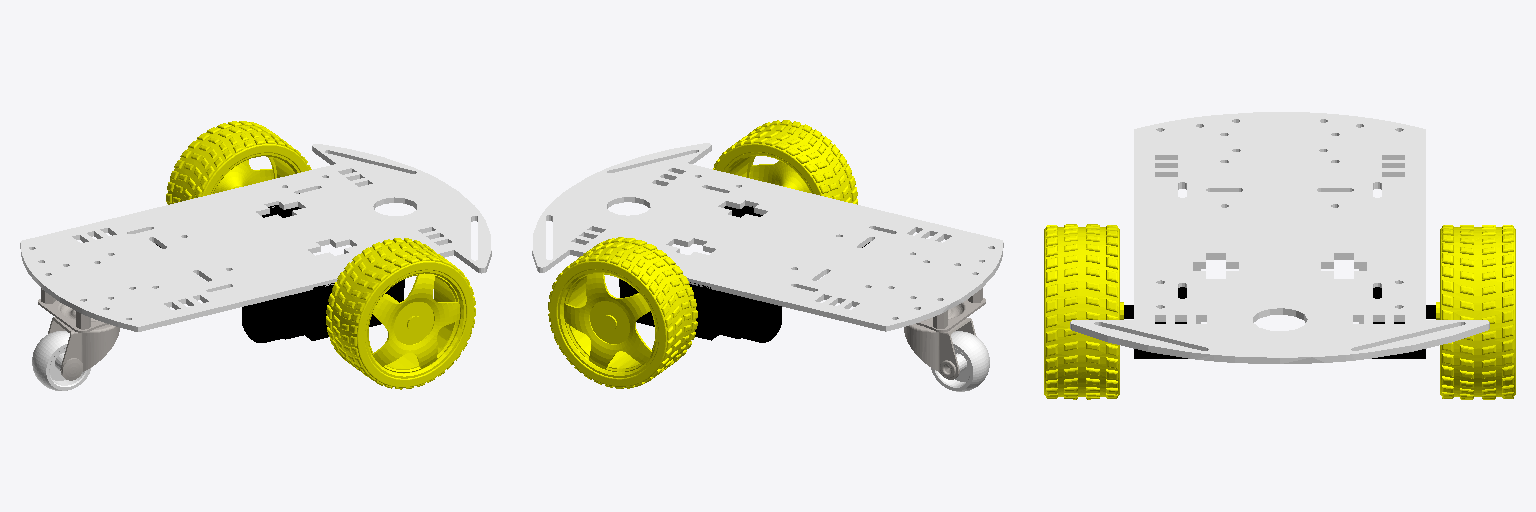
robot.urdf — ros_diff_bot_up:
<?xml version="1.0" encoding="utf-8"?>
<!-- This URDF was automatically created by SolidWorks to URDF Exporter! Originally created by [author] ([email redacted]) 
     Commit Version: 1.6.0-4-g7f85cfe  Build Version: 1.6.7995.38578
     For more information, please see http://wiki.ros.org/sw_urdf_exporter -->
<robot
  name="ros_diff_bot_up">
  <!--<link
    name="odom">
  </link>
  <joint name="dummy_joint" type="fixed">
     <parent link="odom"/>
     <child link="base_footprint"/>
     <origin rpy="0 0 0" xyz="0.0 0.1 -0.042"/>
   </joint> 
  <link
    name="base_footprint">
  </link> 
  <gazebo reference="base_footprint">
    <turnGravityOff>false</turnGravityOff>
  </gazebo>
  <joint name="base_joint" type="fixed">
     <parent link="base_footprint"/>
     <child link="base_link"/>
     <origin rpy="0 0 0" xyz="0.01 0.0 0.042"/>    
     <axis xyz="0 0 1" />
   
  </joint> -->

  <link
    name="base_link">
    <inertial>
      <origin
        xyz="0.0036937316889238 -2.77555756156289E-17 -0.00180916346572228"
        rpy="0 0 0" />
      <mass
        value="0.0558864014844809" />
      <inertia
        ixx="4.88482309612356E-05"
        ixy="7.26100458535936E-22"
        ixz="1.41265658502226E-07"
        iyy="0.00016793802401372"
        iyz="-5.413973657873E-21"
        izz="0.000215540611718324" />
    </inertial>
    <visual>
      <origin
        xyz="0 0 0"
        rpy="0 0 0" />
      <geometry>
        <mesh
          filename="package://ros_diff_bot_up/meshes/base_link.STL" />
      </geometry>
      <material
        name="">
        <color
          rgba="1 1 1 0.3" />
      </material>
    </visual>
    <collision>
      <origin
        xyz="0 0 0"
        rpy="0 0 0" />
      <geometry>
        <mesh
          filename="package://ros_diff_bot_up/meshes/base_link.STL" />
      </geometry>
    </collision>
  </link>
  <gazebo reference="base_link">
    <material>Gazebo/White</material>
    <turnGravityOff>false</turnGravityOff>
  </gazebo>
  <link
    name="right_wheel_Link">
    <inertial>
      <origin
        xyz="0 0 0"
        rpy="0 0 0" />
      <mass
        value="0.0294364519050273" />
      <inertia
        ixx="1.14621536997523E-05"
        ixy="-6.93084858493936E-14"
        ixz="1.89251632684548E-14"
        iyy="1.96065925873771E-05"
        iyz="7.371933423442E-14"
        izz="1.1462153974395E-05" />
    </inertial>
    <visual>
      <origin
        xyz="0 0 0"
        rpy="0 0 0" />
      <geometry>
        <mesh
          filename="package://ros_diff_bot_up/meshes/right_wheel_Link.STL" />
      </geometry>
      <material
        name="">
        <color
          rgba="1 1 0 1" />
      </material>
    </visual>
    <collision>
      <origin
        xyz="0 0 0"
        rpy="0 0 0" />
      <geometry>
        <mesh
          filename="package://ros_diff_bot_up/meshes/right_wheel_Link.STL" />
      </geometry>
    </collision>
  </link>
  <gazebo reference="right_wheel_Link">
    <mu1 value="1.0"/>
    <mu2 value="1.0"/>
    <material>Gazebo/Yellow</material>
    <turnGravityOff>false</turnGravityOff>
  </gazebo>
  <joint
    name="right_wheel_joint"
    type="continuous">
    <origin
      xyz="0.0362142857142861 -0.068 -0.0141"
      rpy="0 0 0" />
    <parent
      link="base_link" />
    <child
      link="right_wheel_Link" />
    <axis
      xyz="0 1 0" />
    <limit
      lower="-3.14"
      upper="3.14"
      effort="10"
      velocity="10" />
  </joint>
   <!-- Transmission is important to link the joints and the controller -->
  <transmission name="right_wheel_joint_trans">
    <type>transmission_interface/SimpleTransmission</type>
    <joint name="right_wheel_joint"/>
    <actuator name="right_wheel_joint_motor">
      <hardwareInterface>EffortJointInterface</hardwareInterface>
      <mechanicalReduction>1</mechanicalReduction>
    </actuator>
  </transmission>
  <link
    name="right_motor_Link">
    <inertial>
      <origin
        xyz="-0.02035794305581 8.04231341817591E-05 -6.93889390390723E-18"
        rpy="0 0 0" />
      <mass
        value="0.0323790347078976" />
      <inertia
        ixx="2.6089411129439E-06"
        ixy="6.13625526923788E-08"
        ixz="-8.98467002735395E-22"
        iyy="1.35835801657752E-05"
        iyz="6.19022252170575E-23"
        izz="1.31198505548233E-05" />
    </inertial>
    <visual>
      <origin
        xyz="0 0 0"
        rpy="0 0 0" />
      <geometry>
        <mesh
          filename="package://ros_diff_bot_up/meshes/right_motor_Link.STL" />
      </geometry>
      <material
        name="">
        <color
          rgba="0 0 0 0" />
      </material>
    </visual>
    <collision>
      <origin
        xyz="0 0 0"
        rpy="0 0 0" />
      <geometry>
        <mesh
          filename="package://ros_diff_bot_up/meshes/right_motor_Link.STL" />
      </geometry>
    </collision>
  </link>
  <gazebo reference="right_motor_Link">
    <material>Gazebo/Black</material>
    <turnGravityOff>false</turnGravityOff>
  </gazebo>
  <joint
    name="r_motor_joint"
    type="fixed">
    <origin
      xyz="0.036214 -0.04 -0.0141"
      rpy="0 0 0" />
    <parent
      link="base_link" />
    <child
      link="right_motor_Link" />
    <axis
      xyz="0 1 0" />
  </joint>
  <link
    name="left_wheel_Link">
    <inertial>
      <origin
        xyz="-5.96183602485922E-10 0.000474669223477234 5.43028573496418E-10"
        rpy="0 0 0" />
      <mass
        value="0.0294364520183894" />
      <inertia
        ixx="1.14621536795018E-05"
        ixy="-1.29635565418801E-13"
        ixz="4.38193812753492E-14"
        iyy="1.960659266517E-05"
        iyz="1.10188868458034E-13"
        izz="1.14621541027451E-05" />
    </inertial>
    <visual>
      <origin
        xyz="0 0 0"
        rpy="0 0 0" />
      <geometry>
        <mesh
          filename="package://ros_diff_bot_up/meshes/left_wheel_Link.STL" />
      </geometry>
      <material
        name="">
        <color
          rgba="1 1 0 1" />
      </material>
    </visual>
    <collision>
      <origin
        xyz="0 0 0"
        rpy="0 0 0" />
      <geometry>
        <mesh
          filename="package://ros_diff_bot_up/meshes/left_wheel_Link.STL" />
      </geometry>
    </collision>
  </link>
  <gazebo reference="left_wheel_Link">
    <mu1 value="1.0"/>
    <mu2 value="1.0"/>
    <material>Gazebo/Yellow</material>
    <turnGravityOff>false</turnGravityOff>
  </gazebo>
  <joint
    name="left_wheel_joint"
    type="continuous">
    <origin
      xyz="0.036214285714286 0.0680000000000001 -0.0141"
      rpy="0 0 0" />
    <parent
      link="base_link" />
    <child
      link="left_wheel_Link" />
    <axis
      xyz="0 1 0" />
    <limit
      lower="-3.14"
      upper="3.14"
      effort="10"
      velocity="10" />
  </joint>
   <!-- Transmission is important to link the joints and the controller -->
  <transmission name="left_wheel_joint_trans">
    <type>transmission_interface/SimpleTransmission</type>
    <joint name="left_wheel_joint"/>
    <actuator name="left_wheel_joint_motor">
      <hardwareInterface>EffortJointInterface</hardwareInterface>
      <mechanicalReduction>1</mechanicalReduction>
    </actuator>
  </transmission>
  <link
    name="left_motor_Link">
    <inertial>
      <origin
        xyz="-0.02035794305581 -8.04231341817729E-05 -6.93889390390723E-18"
        rpy="0 0 0" />
      <mass
        value="0.0323790347078976" />
      <inertia
        ixx="2.60894111294391E-06"
        ixy="-6.13625526923893E-08"
        ixz="-8.98174551170202E-22"
        iyy="1.35835801657753E-05"
        iyz="-4.52729251176918E-22"
        izz="1.31198505548233E-05" />
    </inertial>
    <visual>
      <origin
        xyz="0 0 0"
        rpy="0 0 0" />
      <geometry>
        <mesh
          filename="package://ros_diff_bot_up/meshes/left_motor_Link.STL" />
      </geometry>
      <material
        name="">
        <color
          rgba="0 0 0 0" />
      </material>
    </visual>
    <collision>
      <origin
        xyz="0 0 0"
        rpy="0 0 0" />
      <geometry>
        <mesh
          filename="package://ros_diff_bot_up/meshes/left_motor_Link.STL" />
      </geometry>
    </collision>
  </link>
  <gazebo reference="left_motor_Link">
    <material>Gazebo/Black</material>
    <turnGravityOff>false</turnGravityOff>
  </gazebo>
  <joint
    name="l_motor_joint"
    type="fixed">
    <origin
      xyz="0.036214 0.04 -0.0141"
      rpy="0 0 0" />
    <parent
      link="base_link" />
    <child
      link="left_motor_Link" />
    <axis
      xyz="0 1 0" />
  </joint>
  <link
    name="caster_top_Link">
    <inertial>
      <origin
        xyz="-0.00626129806165891 0.000247250578410199 -0.0263946244615757"
        rpy="0 0 0" />
      <mass
        value="0.015096753954997" />
      <inertia
        ixx="1.2444850458406E-06"
        ixy="-1.39252830560497E-08"
        ixz="-2.06478504856202E-07"
        iyy="9.76243119537265E-07"
        iyz="1.06851859987863E-08"
        izz="1.53085651294844E-06" />
    </inertial>
    <visual>
      <origin
        xyz="0 0 0"
        rpy="0 0 0" />
      <geometry>
        <mesh
          filename="package://ros_diff_bot_up/meshes/caster_top_Link.STL" />
      </geometry>
      <material
        name="">
        <color
          rgba="0.776470588235294 0.756862745098039 0.737254901960784 1" />
      </material>
    </visual>
    <collision>
      <origin
        xyz="0 0 0"
        rpy="0 0 0" />
      <geometry>
        <mesh
          filename="package://ros_diff_bot_up/meshes/caster_top_Link.STL" />
      </geometry>
    </collision>
  </link>
  <gazebo reference="caster_top_Link">
    <turnGravityOff>false</turnGravityOff>
  </gazebo>
  <joint
    name="caster_t_joint"
    type="continuous">
    <origin
      xyz="-0.076786 0 0"
      rpy="0 0 0" />
    <parent
      link="base_link" />
    <child
      link="caster_top_Link" />
    <axis
      xyz="0 0 1" />
    <limit
      lower="-3.14"
      upper="3.14"
      effort="0"
      velocity="0" />
  </joint>
  <link
    name="caster_whee_Link">
    <inertial>
      <origin
        xyz="3.87671968702791E-05 0.00074899739949269 -3.46944695195361E-18"
        rpy="0 0 0" />
      <mass
        value="0.00407472440871672" />
      <inertia
        ixx="2.55385195948657E-07"
        ixy="8.57582553515056E-09"
        ixz="-2.91573639372636E-25"
        iyy="4.20629623662581E-07"
        iyz="5.7157090842751E-23"
        izz="2.54941321621361E-07" />
    </inertial>
    <visual>
      <origin
        xyz="0 0 0"
        rpy="0 0 0" />
      <geometry>
        <mesh
          filename="package://ros_diff_bot_up/meshes/caster_whee_Link.STL" />
      </geometry>
      <material
        name="">
        <color
          rgba="1 1 1 1" />
      </material>
    </visual>
    <collision>
      <origin
        xyz="0 0 0"
        rpy="0 0 0" />
      <geometry>
        <mesh
          filename="package://ros_diff_bot_up/meshes/caster_whee_Link.STL" />
      </geometry>
    </collision>
  </link>
  <joint
    name="caster_joint"
    type="continuous">
    <origin
      xyz="-0.0135207203877388 -5.11878558277987E-05 -0.0345000000000001"
      rpy="0 0 0" />
    <parent
      link="caster_top_Link" />
    <child
      link="caster_whee_Link" />
    <axis
      xyz="0 1 0" />
    <limit
      lower="-3.14"
      upper="3.14"
      effort="10"
      velocity="10" />
  </joint>
  <gazebo reference="caster_whee_Link">
    <turnGravityOff>false</turnGravityOff>
  </gazebo>
  <link
    name="caster_top_fastners">
    <inertial>
      <origin
        xyz="2.93313351384938E-08 3.46027283840145E-08 0.013830098608579"
        rpy="0 0 0" />
      <mass
        value="0.011622054420826" />
      <inertia
        ixx="9.21271437837048E-07"
        ixy="3.33385901044985E-13"
        ixz="-1.94334116624817E-12"
        iyy="8.84428897490687E-07"
        iyz="1.41065867697288E-12"
        izz="1.75921327780288E-06" />
    </inertial>
    <visual>
      <origin
        xyz="0 0 0"
        rpy="0 0 0" />
      <geometry>
        <mesh
          filename="package://ros_diff_bot_up/meshes/caster_top_fastners.STL" />
      </geometry>
      <material
        name="">
        <color
          rgba="0.776470588235294 0.756862745098039 0.737254901960784 1" />
      </material>
    </visual>
    <collision>
      <origin
        xyz="0 0 0"
        rpy="0 0 0" />
      <geometry>
        <mesh
          filename="package://ros_diff_bot_up/meshes/caster_top_fastners.STL" />
      </geometry>
    </collision>
  </link>
  <joint
    name="none"
    type="fixed">
    <origin
      xyz="-0.0767857142857139 0 0"
      rpy="0 0 0" />
    <parent
      link="base_link" />
    <child
      link="caster_top_fastners" />
    <axis
      xyz="0 1 0" />
  </joint>
  
  <gazebo>
    <plugin name="joint_state_publisher"
            filename="libgazebo_ros_joint_state_publisher.so">
      <jointName>caster_t_joint, caster_joint</jointName>
    </plugin>
  </gazebo>

  <!-- Plugin for differential drive -->
  <gazebo>
    <plugin name="differential_drive_controller" filename="libgazebo_ros_diff_drive.so" >
      <rosDebugLevel>Debug</rosDebugLevel>
      <publishTf>1</publishTf>
      <alwaysOn>true</alwaysOn>
      <updateRate>10</updateRate>
      <leftJoint>left_wheel_joint</leftJoint>
      <rightJoint>right_wheel_joint</rightJoint>
      <wheelSeparation>0.118</wheelSeparation>
      <wheelDiameter>0.062</wheelDiameter>
      <broadcastTF>1</broadcastTF>
      <wheelTorque>20</wheelTorque>
      <wheelAcceleration>3</wheelAcceleration>
      <commandTopic>cmd_vel</commandTopic>
      <odometryFrame>odom</odometryFrame>
      <odometryTopic>odom</odometryTopic>
      <robotBaseFrame>base_link</robotBaseFrame>
      <odometrySource>1</odometrySource>
      <publishWheelTF>true</publishWheelTF>
      <publishOdom>true</publishOdom>
      <publishWheelJointState>true</publishWheelJointState>
      <legacyMode>false</legacyMode>
    </plugin>
  </gazebo>
</robot>

--- What the picture shows (computed from the rendered views, not written in the file) ---
The picture shows the robot from 3 angles, left to right: view 1: azimuth 30°, elevation 25°; view 2: azimuth 150°, elevation 25°; view 3: azimuth 270°, elevation 25°; orthographic projection.
Robot: ros_diff_bot_up — 8 links, 7 joints (4 continuous, 3 fixed); root link base_link; default pose: all joints at 0.
Visible links, largest first — view 1: base_link, right_wheel_Link, left_wheel_Link, right_motor_Link, caster_top_Link, caster_whee_Link, caster_top_fastners; view 2: base_link, left_wheel_Link, right_wheel_Link, left_motor_Link, caster_top_Link, caster_whee_Link, caster_top_fastners; view 3: base_link, right_wheel_Link, left_wheel_Link, right_motor_Link, left_motor_Link.
Boxes of the visible links, x1,y1,x2,y2 form: base_link: (20,144,491,331); right_wheel_Link: (326,238,475,389); left_wheel_Link: (166,121,311,204); right_motor_Link: (242,279,404,342); caster_top_Link: (48,317,119,380); caster_whee_Link: (32,331,91,390); caster_top_fastners: (38,288,108,332); base_link: (532,143,1003,331); left_wheel_Link: (548,237,697,388); right_wheel_Link: (713,120,857,204); left_motor_Link: (619,279,781,342); caster_top_Link: (904,318,976,379); caster_whee_Link: (931,331,989,391); caster_top_fastners: (916,288,985,332); base_link: (1070,112,1489,363); right_wheel_Link: (1044,224,1123,399); left_wheel_Link: (1436,225,1515,399); right_motor_Link: (1124,287,1187,358); left_motor_Link: (1372,287,1435,358).
Size in the robot's own frame: 0.207 by 0.1618 by 0.0635 metres.
Meshes: 8 distinct files referenced, 8 mesh visuals loaded (8 binary STL).
